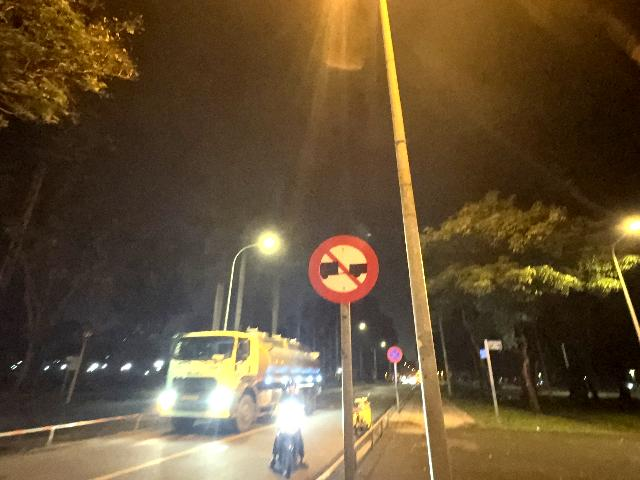cam-xe-somi-romooc: (308, 234, 378, 304)
